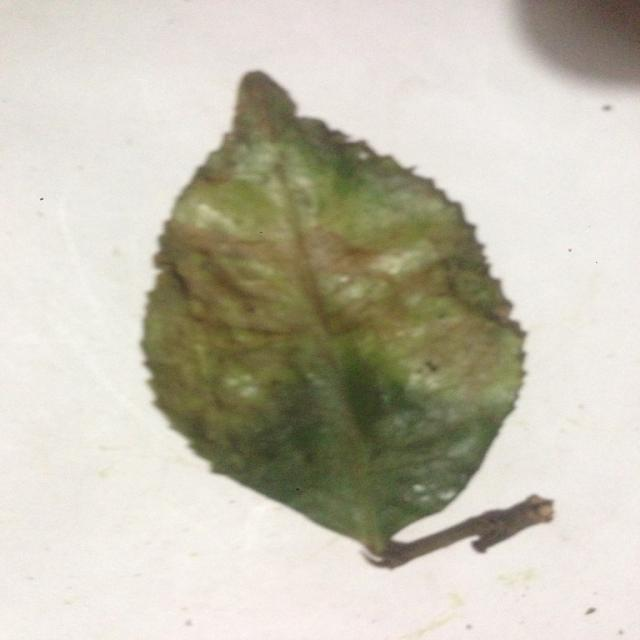Red Leaf Spot: (90, 42, 578, 594)
